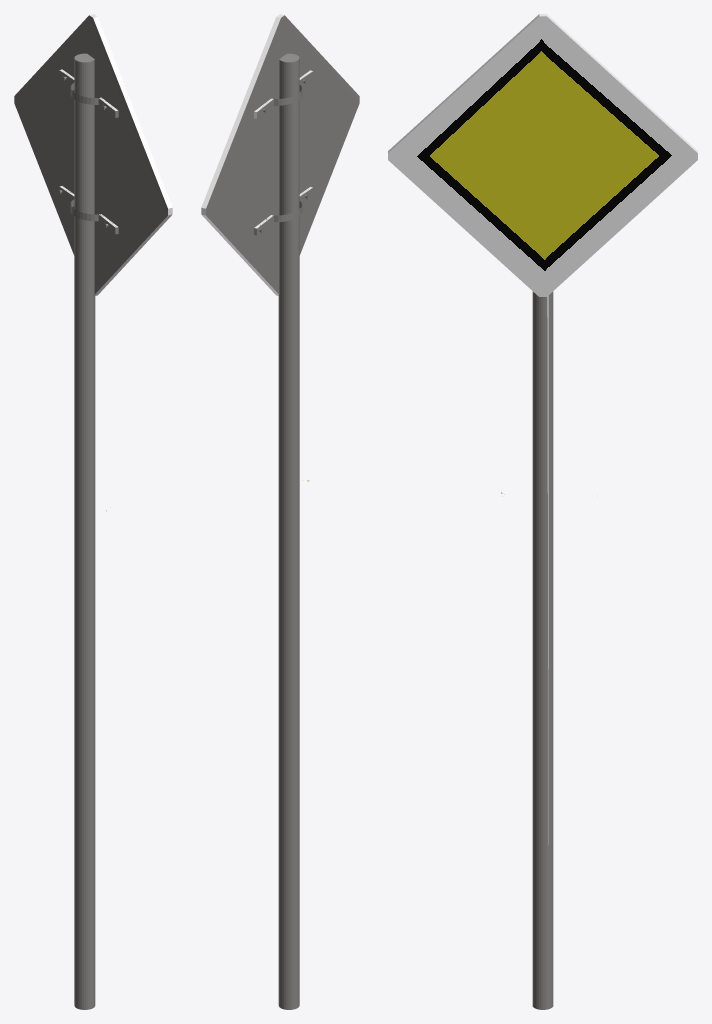
File: priority_sign.obj
3 views of the same model, side by side, from view 1: azimuth 30°, elevation 25°; view 2: azimuth 150°, elevation 25°; view 3: azimuth 270°, elevation 25° (orthographic).
Parts seen in each view (by area): view 1: Cylinder; view 2: Cylinder; view 3: Cylinder.
Part boxes in pixels (x1,y1,x2,y2): Cylinder: (14, 14, 172, 1009); Cylinder: (201, 14, 359, 1009); Cylinder: (388, 14, 697, 1009).
Bounding box in the file's own units: 0.028 × 1.23 × 0.3463.
